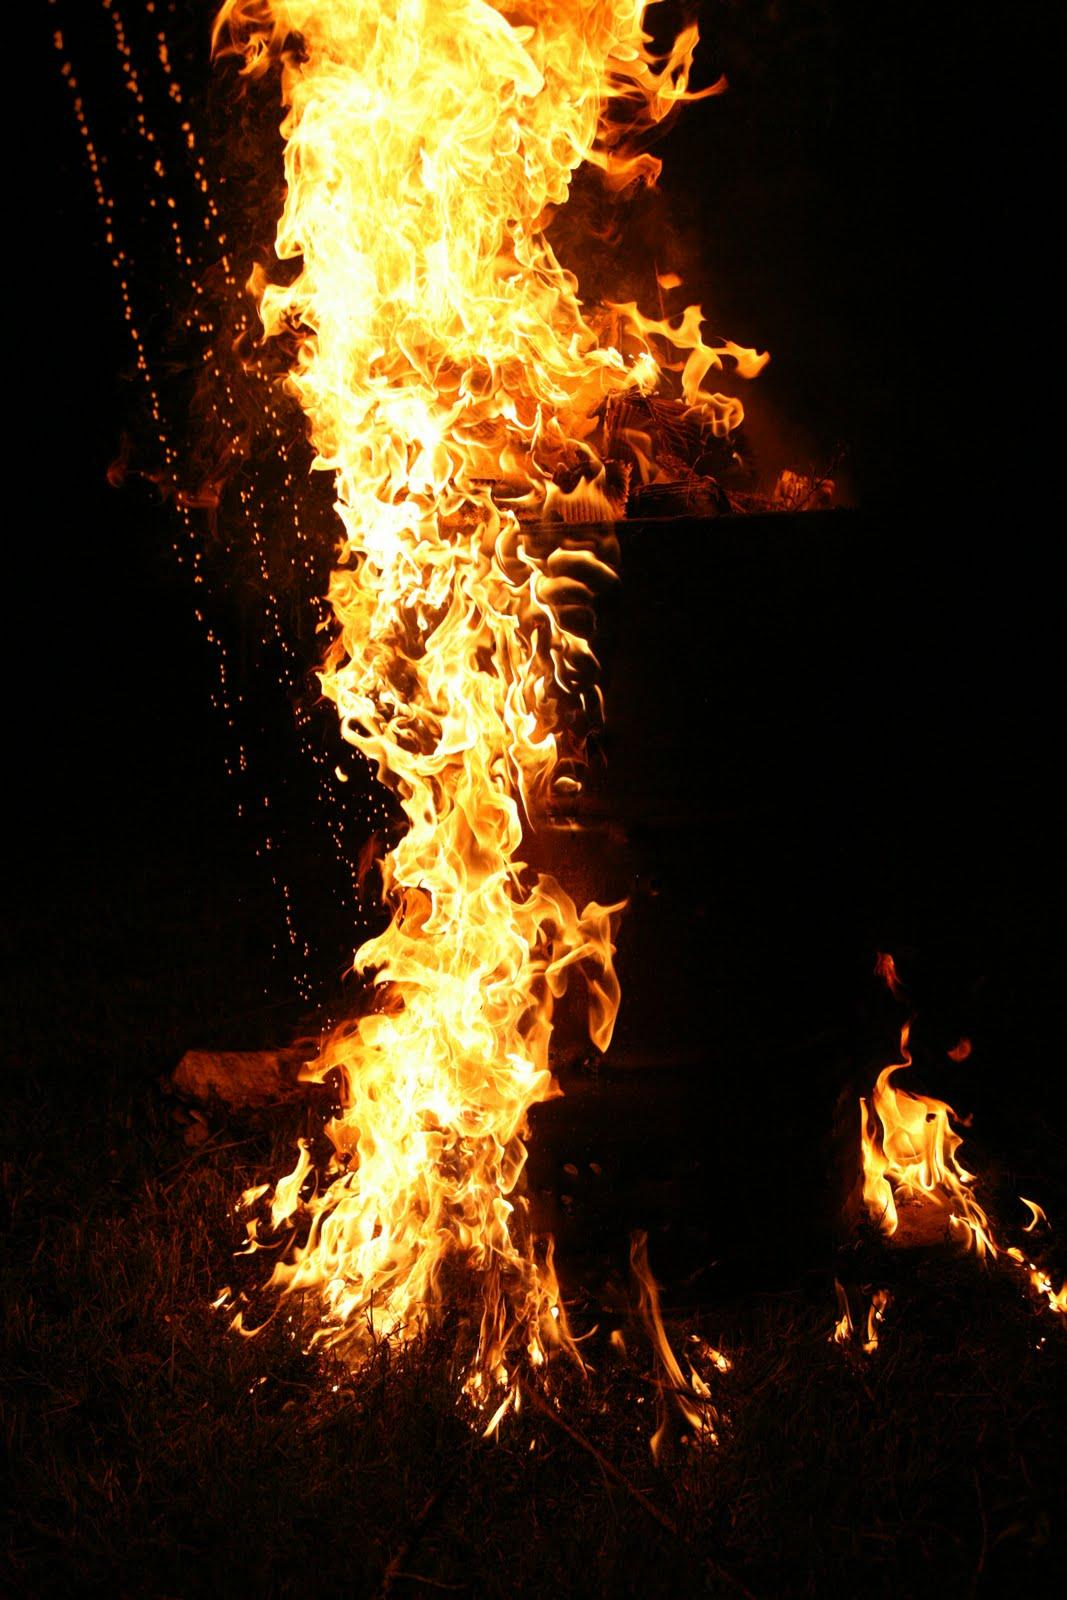Fire: (207, 1, 762, 1450), (812, 918, 1067, 1373)
